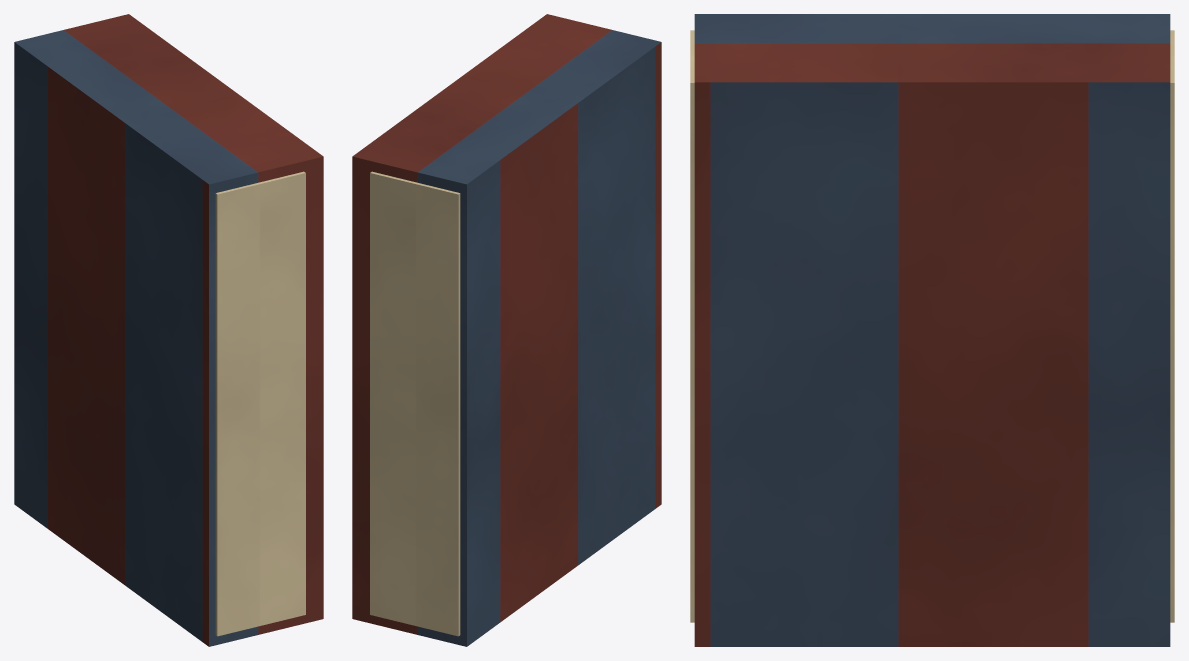
File: Book_Simplified_Single.gltf
3 renders of one model, left to right at view 1: azimuth 30°, elevation 25°; view 2: azimuth 150°, elevation 25°; view 3: azimuth 270°, elevation 25°, orthographic. The views are drawn at different scales.
Parts seen in each view (by area): view 1: Book_Simplified_Single; view 2: Book_Simplified_Single; view 3: Book_Simplified_Single.
Part boxes in pixels (x1,y1,x2,y2): Book_Simplified_Single: (14, 14, 323, 646); Book_Simplified_Single: (352, 14, 661, 646); Book_Simplified_Single: (690, 14, 1174, 646).
Bounding box in the file's own units: 0.07 × 0.27 × 0.21.
Materials: 2 (2 with a texture image).
